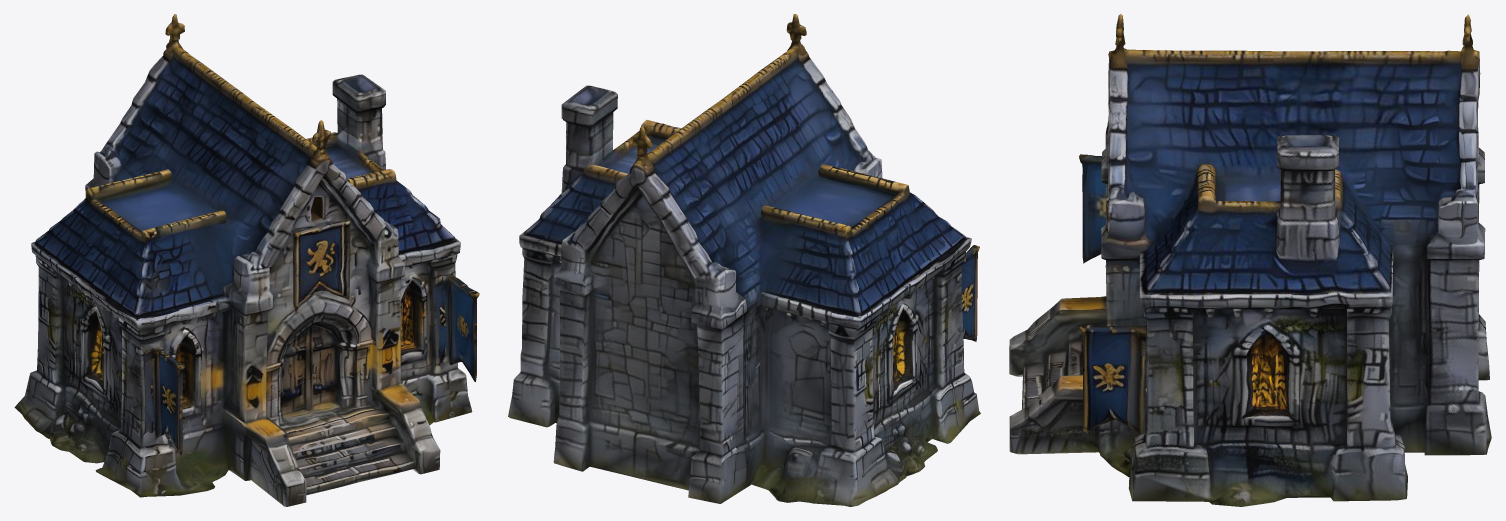
Rendered from c_hall.glb.
3 views of the same model, side by side, from view 1: azimuth 30°, elevation 25°; view 2: azimuth 150°, elevation 25°; view 3: azimuth 270°, elevation 25° (orthographic). The views are drawn at different scales.
Visible parts, largest first — view 1: tripo_node_79eb2e99-5f08-442b-8892-cc2534b3a4e3; view 2: tripo_node_79eb2e99-5f08-442b-8892-cc2534b3a4e3; view 3: tripo_node_79eb2e99-5f08-442b-8892-cc2534b3a4e3.
Part boxes in pixels (x1,y1,x2,y2): tripo_node_79eb2e99-5f08-442b-8892-cc2534b3a4e3: (14,14,479,506); tripo_node_79eb2e99-5f08-442b-8892-cc2534b3a4e3: (508,14,980,506); tripo_node_79eb2e99-5f08-442b-8892-cc2534b3a4e3: (1009,14,1491,506).
Size of the model in its own units: 4.2 by 3.76 by 4.1.
Materials: 1 (1 with a texture image).
